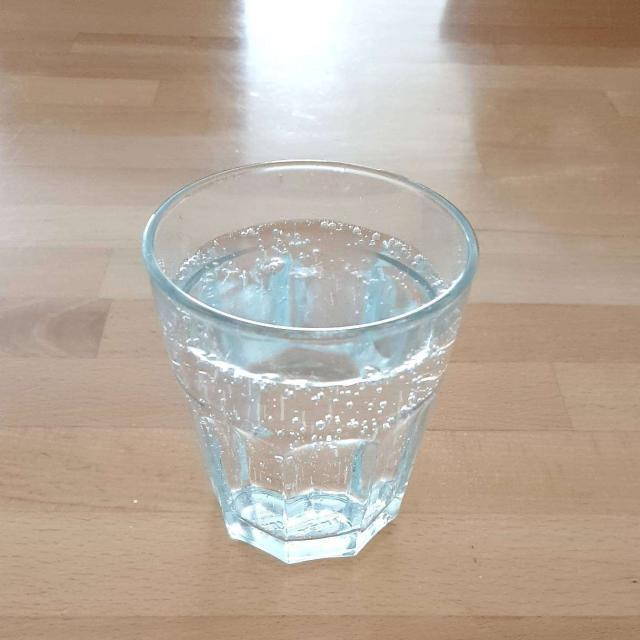water: (172, 221, 433, 568)
